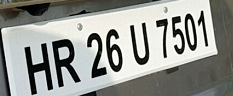0: (183, 13, 199, 52)
1: (197, 10, 211, 47)
2: (84, 32, 109, 79)
5: (171, 15, 185, 55)
6: (105, 28, 126, 73)
7: (154, 18, 171, 59)
H: (22, 42, 55, 95)
R: (51, 38, 82, 89)
U: (129, 22, 151, 67)
